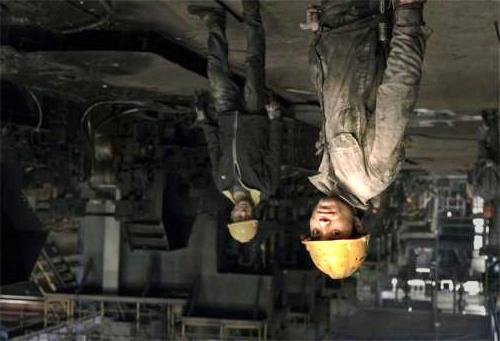helmet: (300, 197, 371, 279), (227, 200, 259, 243), (482, 202, 495, 219)
